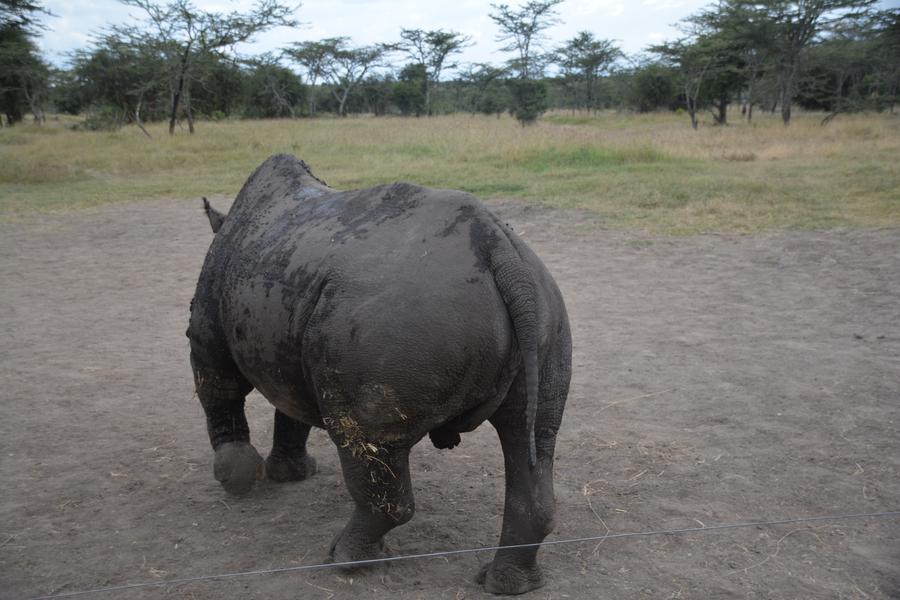rhino: (186, 156, 546, 559)
